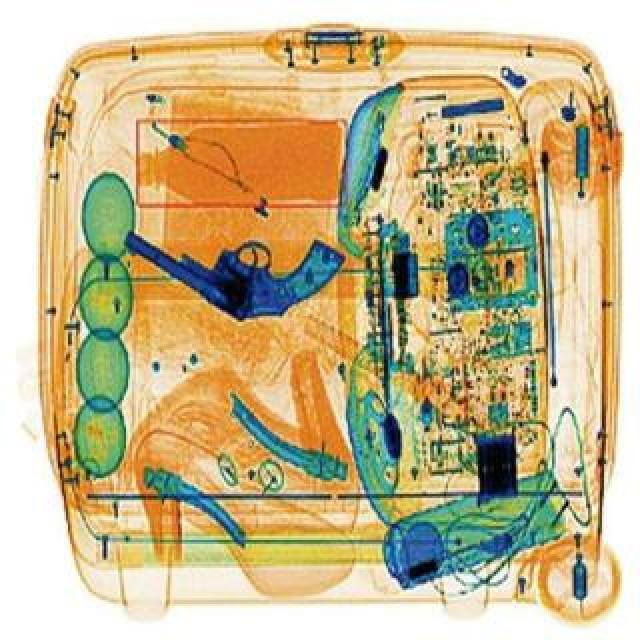gun: (124, 226, 354, 326)
